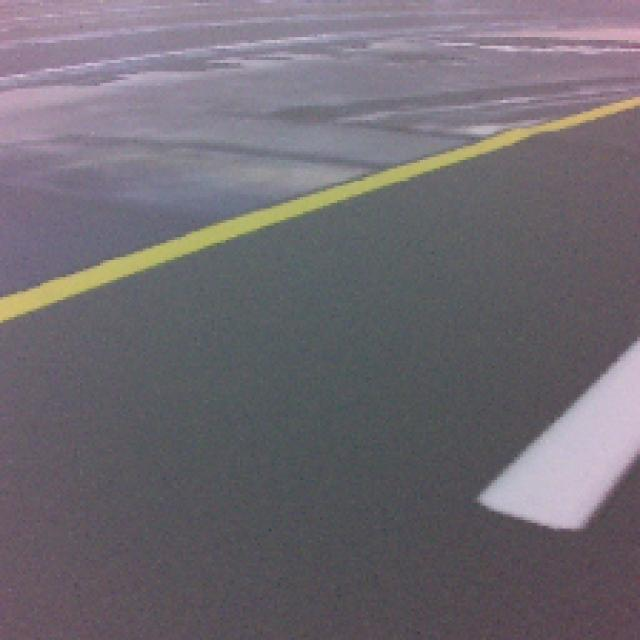Guard rail: (485, 345, 638, 530)
